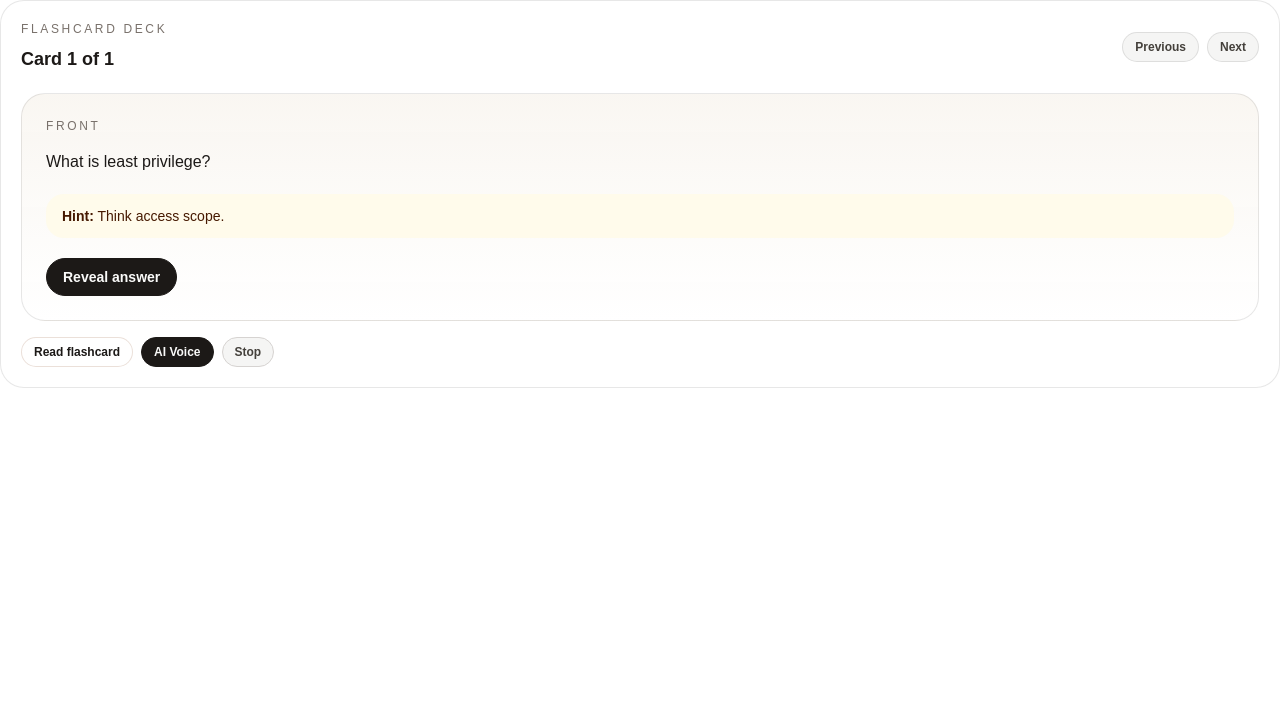
it: interactive study components › reveals flashcard answers
Click the button "Reveal answer".
click(112, 277)  # box top-left (46, 258), bottom-right (177, 296)
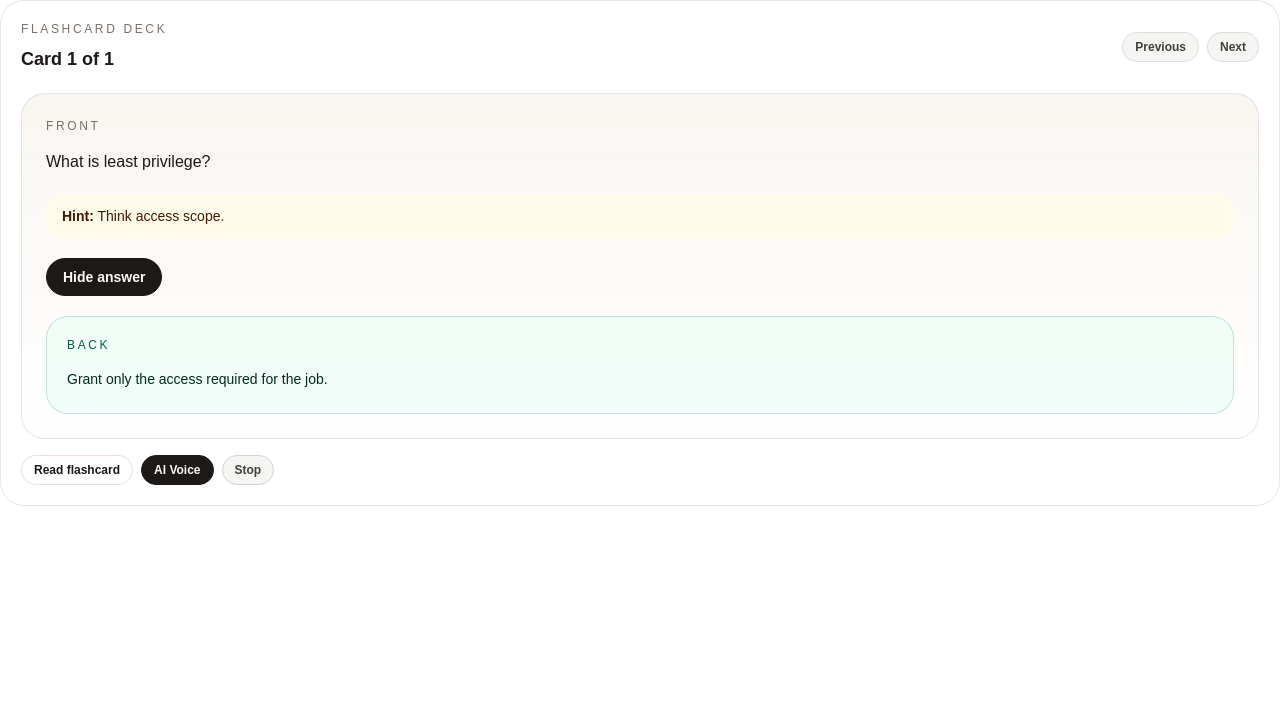
Now the text "Grant only the access required for the job." is shown, box top-left (67, 371), bottom-right (328, 387)
